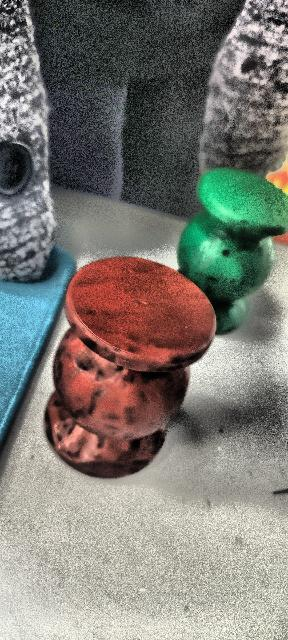green: (178, 170, 286, 336)
red: (37, 256, 216, 480)
